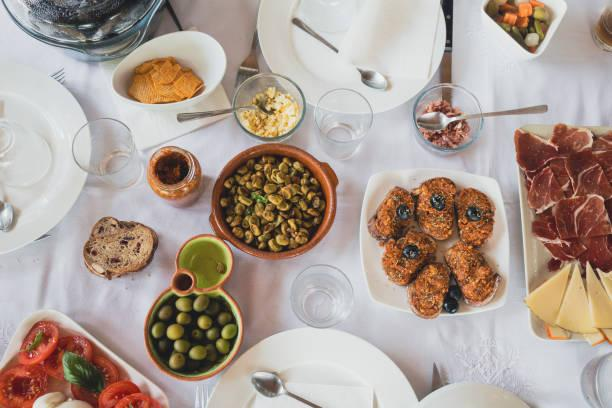Braised Crucian Carp: (360, 167, 509, 317), (207, 144, 335, 260)
